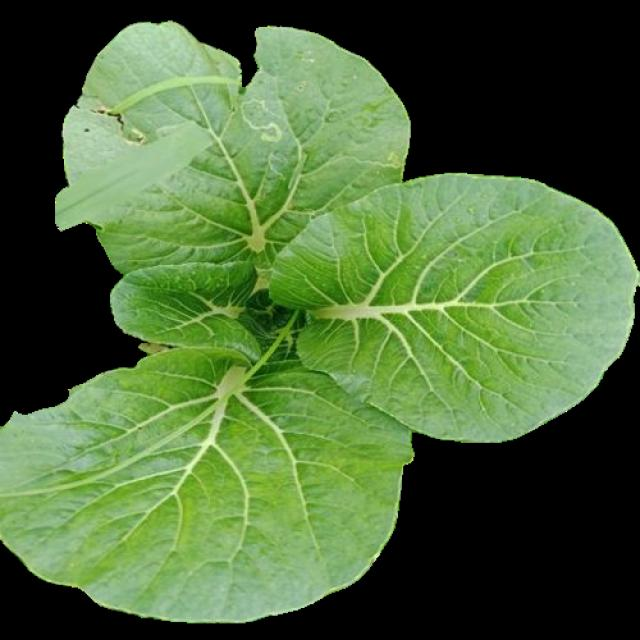mature: (1, 14, 631, 622)
unhealthy: (66, 23, 411, 265)
